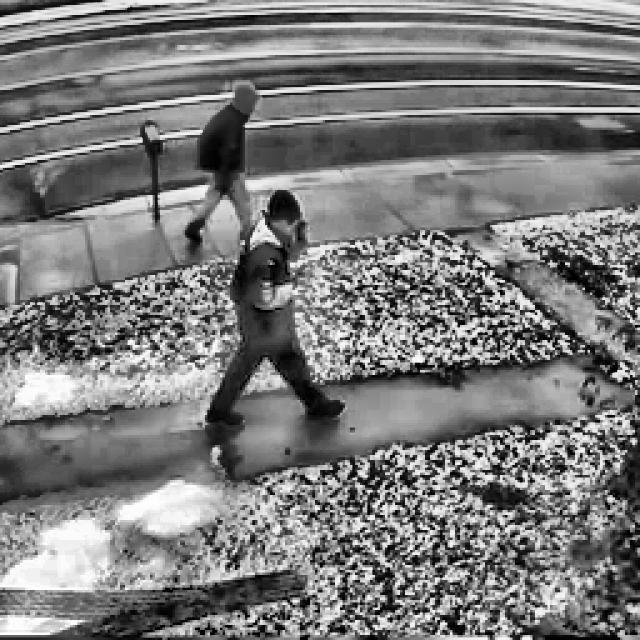Human: (233, 197, 342, 441), (175, 78, 258, 247)
